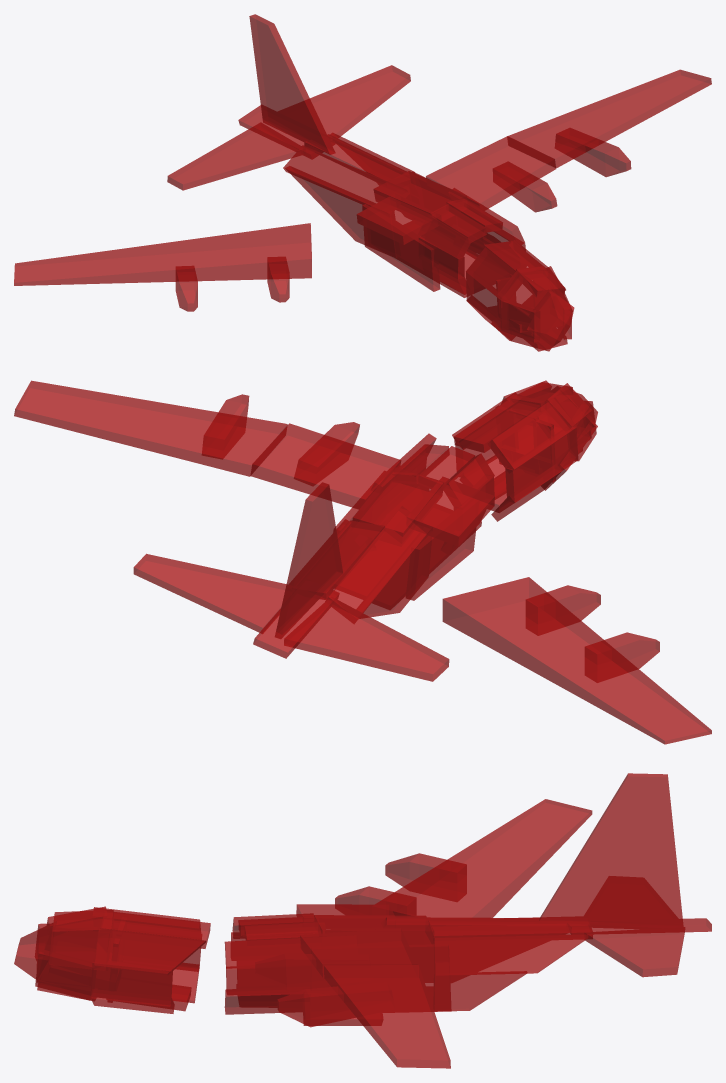
The model's file is SM_Veh_Plane_Destroyed_01_C_Collision.fbx.
The picture shows the model from 3 angles, top to bottom: view 1: azimuth 30°, elevation 25°; view 2: azimuth 150°, elevation 25°; view 3: azimuth 270°, elevation 25°; orthographic projection. The views are drawn at different scales.
Visible parts, largest first — view 1: SM_Veh_Plane_Destroyed_01_C_Collision; view 2: SM_Veh_Plane_Destroyed_01_C_Collision; view 3: SM_Veh_Plane_Destroyed_01_C_Collision.
Boxes of the visible parts, bbox=[...] form: SM_Veh_Plane_Destroyed_01_C_Collision: bbox=[14, 14, 711, 351]; SM_Veh_Plane_Destroyed_01_C_Collision: bbox=[14, 380, 711, 744]; SM_Veh_Plane_Destroyed_01_C_Collision: bbox=[14, 773, 711, 1068].
Bounding box in the file's own units: 4526 × 1209 × 3559.
